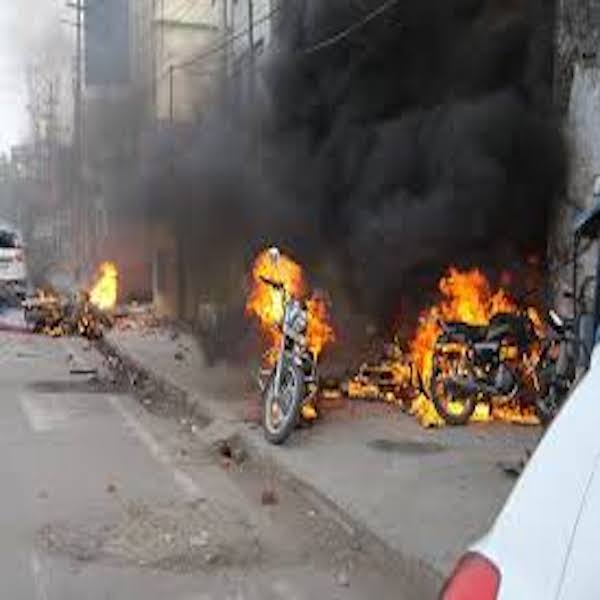fire: (247, 206, 361, 357), (438, 212, 523, 317), (406, 316, 437, 421), (85, 259, 119, 311)
